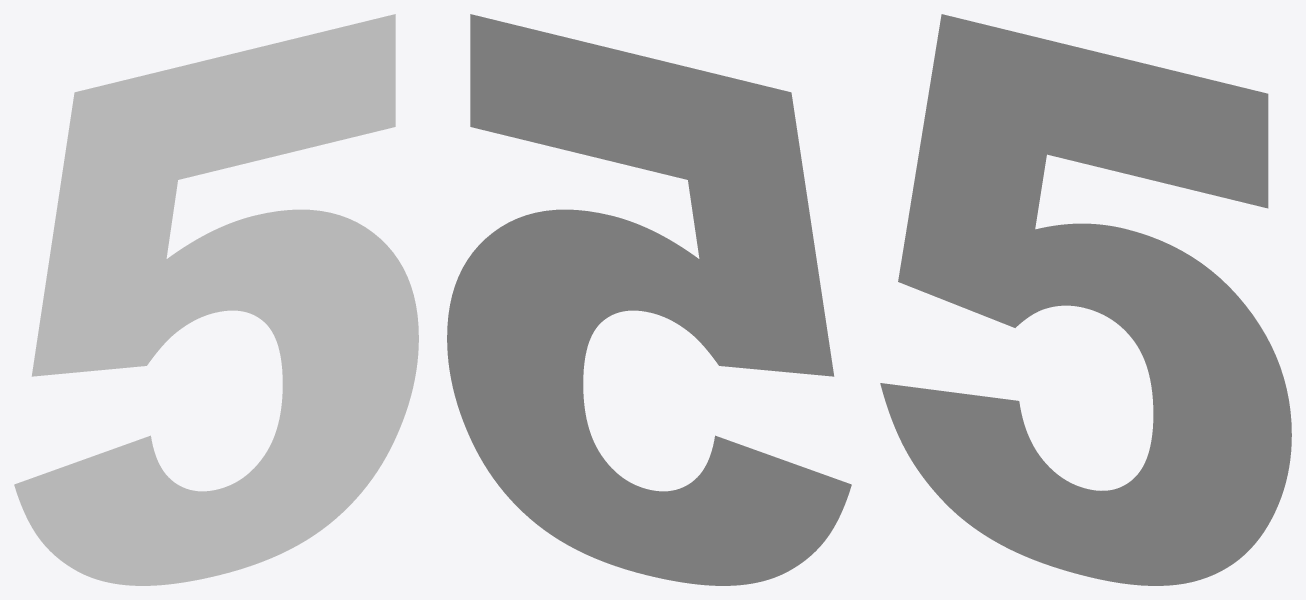
3 views of the same model, side by side, from view 1: azimuth 30°, elevation 25°; view 2: azimuth 150°, elevation 25°; view 3: azimuth 330°, elevation 25° (orthographic).
Visible parts, largest first — view 1: テキスト; view 2: テキスト; view 3: テキスト.
Boxes of the visible parts, bbox=[...] form: テキスト: bbox=[14, 14, 418, 585]; テキスト: bbox=[447, 14, 851, 585]; テキスト: bbox=[880, 14, 1291, 585].
Size of the model in its own units: 1.28 by 1.57 by 0.
Materials: 1 (1 with a texture image).
